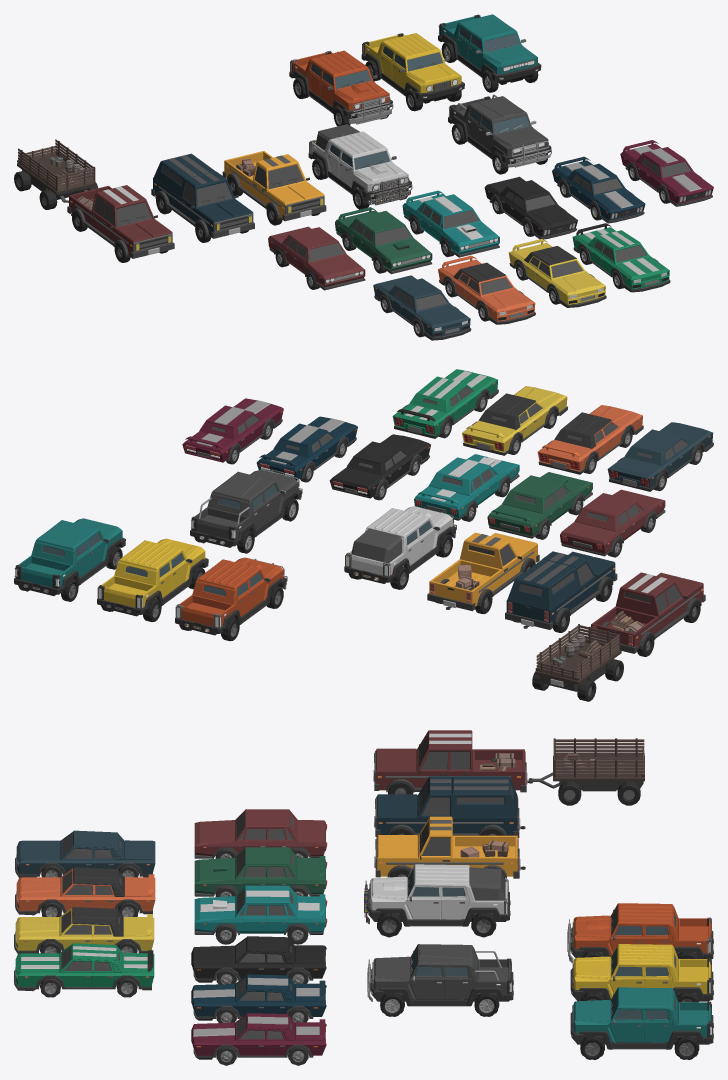
The model's file is cars.glb.
3 views of the same model, one above another, from view 1: azimuth 30°, elevation 25°; view 2: azimuth 150°, elevation 25°; view 3: azimuth 270°, elevation 25° (orthographic). The views are drawn at different scales.
Visible parts, largest first — view 1: car_00, car_04, car_01, car_02, car_03, car_17, car_12, car_09, car_08, car_14, car_11, car_06 (+12 smaller); view 2: car_00, car_01, car_04, car_02, car_03, car_17, car_06, car_09, car_11, car_08, car_05, car_14 (+13 smaller); view 3: car_00, car_01, car_02, car_17, car_03, car_04, car_12, car_14, car_08, car_13, car_05, car_09 (+14 smaller).
Part boxes in pixels (x1,y1,x2,y2): car_00: [308, 124, 412, 209]; car_04: [289, 50, 393, 126]; car_01: [448, 94, 551, 174]; car_02: [438, 14, 541, 92]; car_03: [361, 33, 464, 111]; car_17: [14, 171, 172, 262]; car_12: [402, 190, 499, 257]; car_09: [335, 207, 432, 274]; car_08: [438, 255, 535, 324]; car_14: [572, 223, 670, 292]; car_11: [508, 239, 606, 307]; car_06: [268, 226, 365, 290]; car_00: [344, 506, 456, 589]; car_01: [190, 469, 302, 553]; car_04: [175, 557, 287, 641]; car_02: [14, 518, 125, 601]; car_03: [97, 538, 208, 621]; car_17: [532, 572, 703, 701]; car_06: [560, 489, 665, 557]; car_09: [487, 472, 592, 539]; car_11: [462, 386, 567, 455]; car_08: [537, 405, 643, 474]; car_05: [607, 422, 713, 491]; car_14: [392, 369, 498, 438]; car_00: [364, 864, 510, 937]; car_01: [367, 944, 513, 1016]; car_02: [570, 987, 713, 1059]; car_17: [376, 730, 640, 805]; car_03: [570, 944, 713, 1002]; car_04: [567, 903, 713, 962]; car_12: [194, 885, 327, 944]; car_14: [14, 943, 154, 997]; car_08: [15, 867, 155, 916]; car_13: [191, 1013, 326, 1065]; car_05: [15, 830, 155, 877]; car_09: [194, 847, 327, 896].
Bounding box in the file's own units: 24.17 × 2.12 × 24.84.
1 material, 1 textured.
